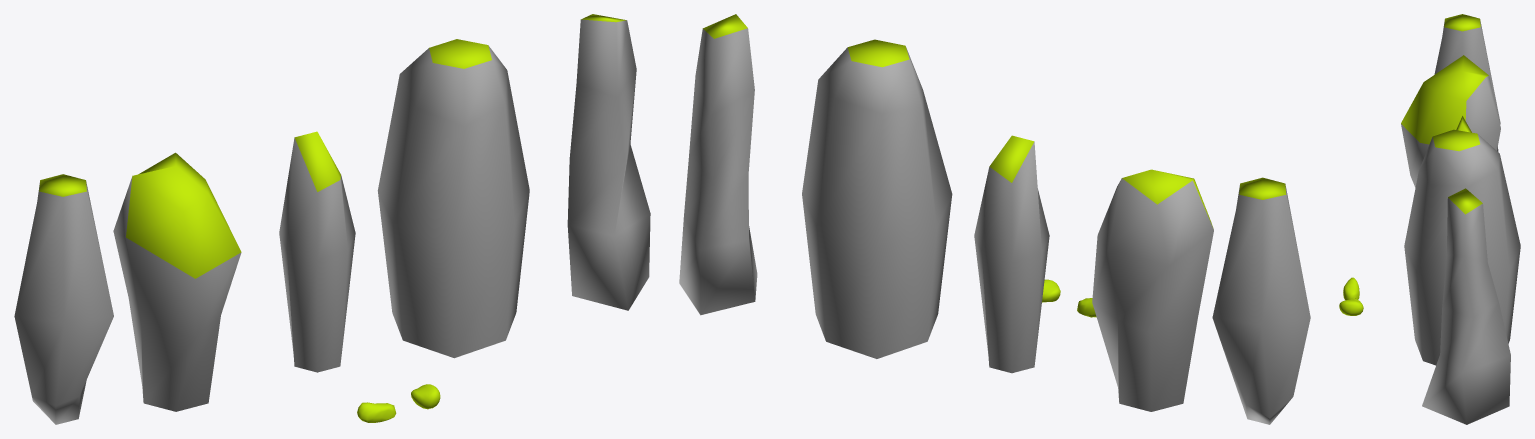
The model's file is cilff.fbx.
3 views of the same model, side by side, from view 1: azimuth 30°, elevation 25°; view 2: azimuth 150°, elevation 25°; view 3: azimuth 270°, elevation 25° (orthographic). The views are drawn at different scales.
Parts seen in each view (by area): view 1: rock3, rock2, rock4, rock5, rock1, grass1; view 2: rock3, rock2, rock4, rock5, rock1; view 3: rock3, rock4, rock2, rock5, grass2, grass1.
Boxes of the visible parts, box(x1,y1,x2,y2) form: rock3: box(377, 39, 529, 358); rock2: box(113, 152, 241, 411); rock4: box(567, 14, 650, 310); rock5: box(14, 174, 113, 424); rock1: box(279, 131, 355, 372); grass1: box(357, 402, 396, 422); rock3: box(802, 39, 952, 358); rock2: box(1092, 169, 1213, 411); rock4: box(679, 14, 757, 315); rock5: box(1212, 177, 1310, 424); rock1: box(974, 135, 1049, 373); rock3: box(1404, 129, 1520, 365); rock4: box(1422, 188, 1510, 424); rock2: box(1401, 55, 1500, 187); rock5: box(1434, 14, 1500, 124); grass2: box(1339, 298, 1363, 315); grass1: box(1343, 277, 1359, 300).
Size of the model in its own units: 29.89 by 12.47 by 9.62.
